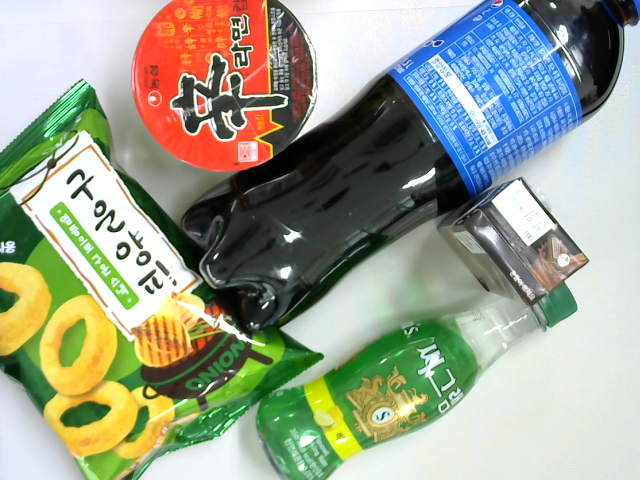Grilled_Onions: (1, 76, 327, 480)
Hush_Choco_Drink: (435, 177, 594, 306)
Pepsi_Cola_1.5L: (179, 1, 640, 332)
Seagram_Lemon_Carbonated_Water: (255, 279, 580, 480)
Sinramen_small: (130, 1, 320, 173)
